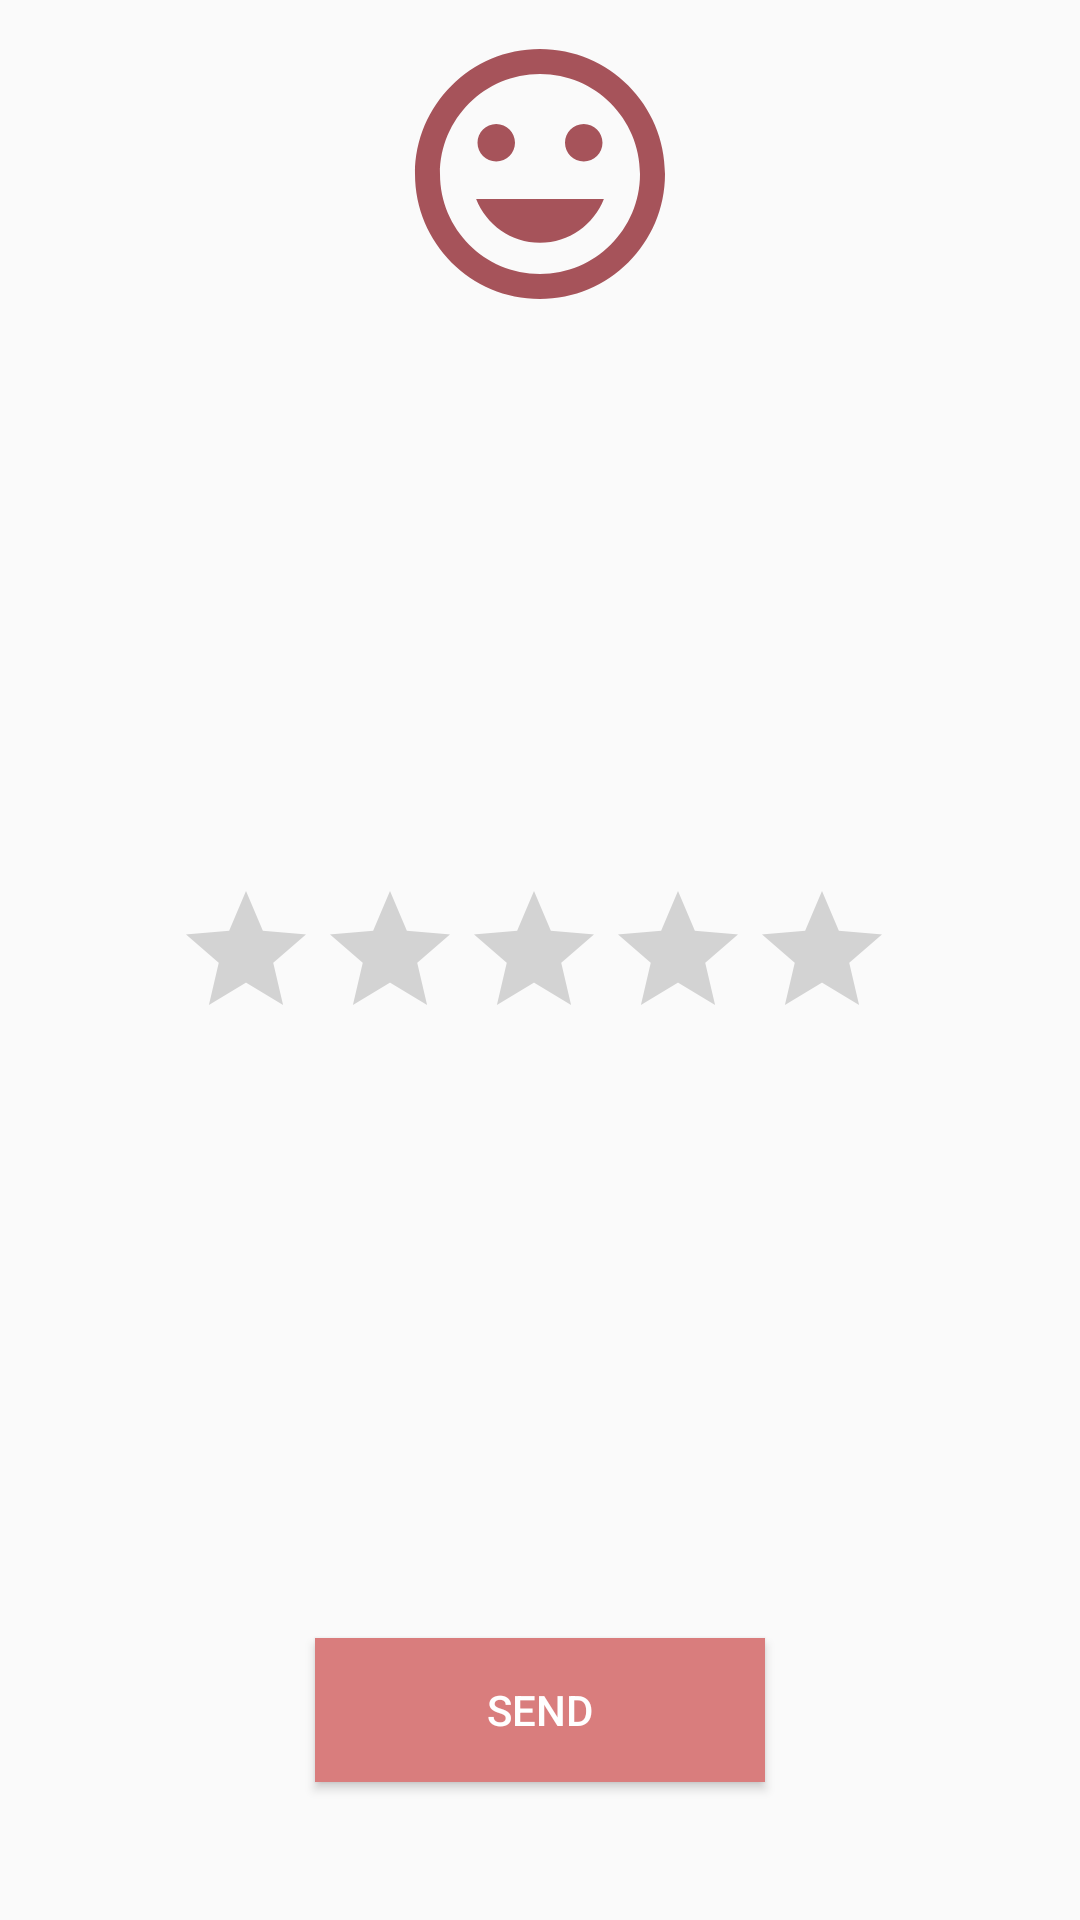

Named icons in this screenshot (1080 × 1920) and their centers, (x,y):
smile: (540,174)
